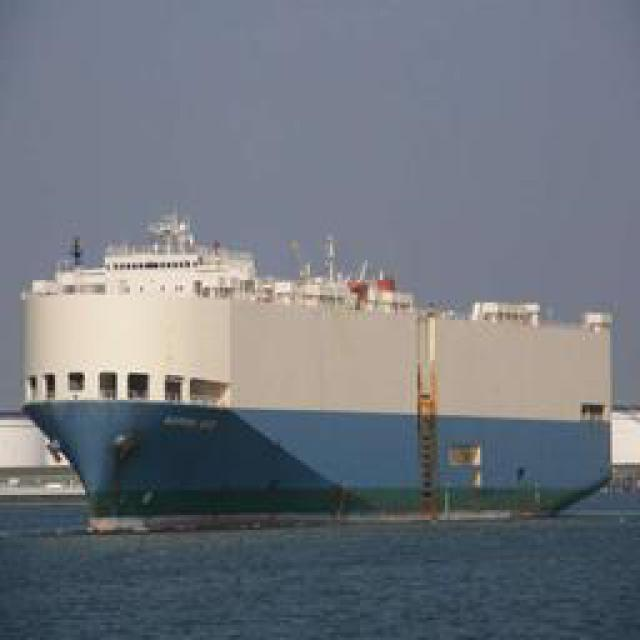Ship: (20, 245, 623, 525)
